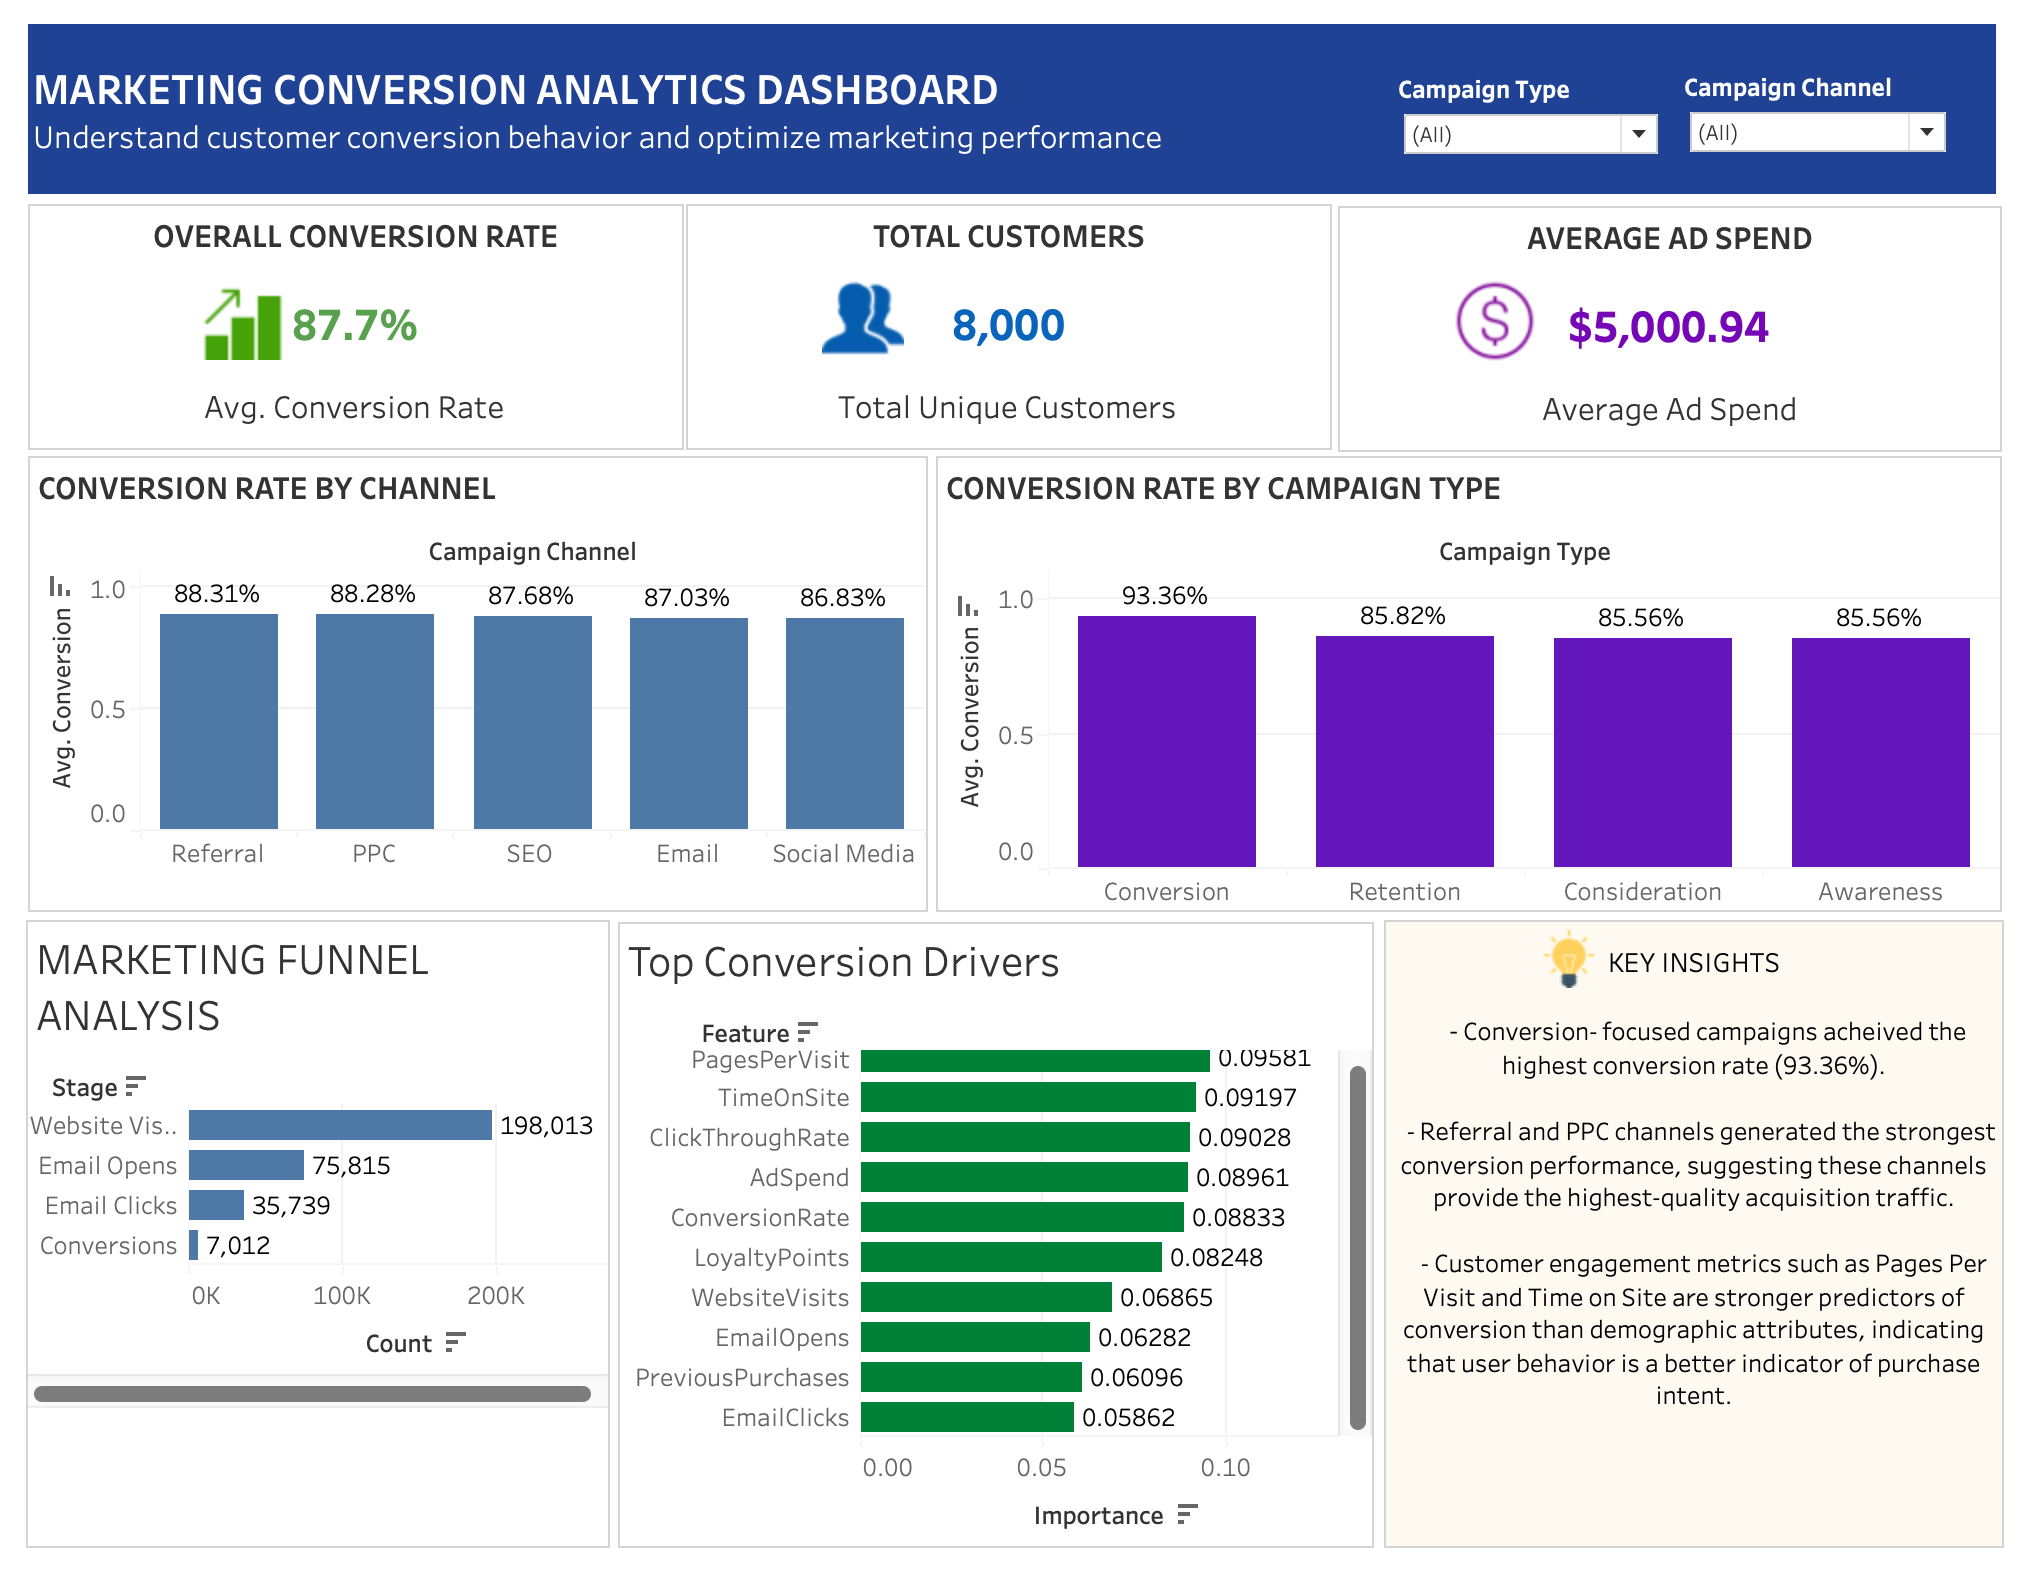

What the dashboard file says about the page in this screenshot:
{"tool":"tableau","page":{"name":"Dashboard 1","canvas":[1000,800],"ordinal":0},"visuals":[{"type":"title","box":[8,8,984,82]},{"type":"filter","title":"Conversion by Channel","param":"[federated.19n8nmc0ehvsmj1dchtow1uu8ffc].[none:CampaignType:nk]","box":[810.8,32,133.3,44]},{"type":"filter","title":"Conversion by Channel","param":"[federated.19n8nmc0ehvsmj1dchtow1uu8ffc].[none:CampaignChannel:nk]","box":[649.2,34,133.3,44]},{"type":"worksheet","title":"OVERALL CONVERSION RATE","mark":"Automatic","box":[16,98,315,123]},{"type":"worksheet","title":"TOTAL CUSTOMERS","mark":"Automatic","box":[332,98,323,123]},{"type":"worksheet","title":"AVERAGE AD SPEND","mark":"Automatic","box":[658,99,332,123]},{"type":"image","param":"/Users/prerana/Downloads/icons8-customers-50-3.png","box":[400,134,45,41]},{"type":"image","param":"/Users/prerana/Downloads/icons8-growth-50.png","box":[90,135,45,41]},{"type":"image","param":"/Users/prerana/Downloads/icons8-dollar-sign-50.png","box":[716,136,45,41]},{"type":"worksheet","title":"Conversion by Channel","mark":"Automatic","rows":["Conversion"],"cols":["CampaignChannel"],"box":[14,224,439,228]},{"type":"worksheet","title":"Conversion by Campaign type","mark":"Automatic","rows":["Conversion"],"cols":["CampaignType"],"box":[457,224,533,228]},{"type":"worksheet","title":"MARKETING FUNNEL ANALYSIS","mark":"Bar","rows":["Stage"],"cols":["Count"],"box":[2,456,292,314]},{"type":"text","box":[681,456,310,314]},{"type":"worksheet","title":"Top Conversion Drivers","mark":"Automatic","rows":["Feature"],"cols":["Importance"],"box":[298,457,378,313]},{"type":"image","param":"/Users/prerana/Downloads/idea.png","box":[759,461,29,43]}]}

Visuals, with their boxes on the page's 1000x800 design canvas (x1, y1, x2, y2). These are canvas units, not pixel positions in the 2036x1570 screenshot, which may show the page scaled, cropped or inside an application window:
title: 8/8/992/90
"Conversion by Channel" filter: 811/32/944/76
"Conversion by Channel" filter: 649/34/782/78
"OVERALL CONVERSION RATE" worksheet: 16/98/331/221
"TOTAL CUSTOMERS" worksheet: 332/98/655/221
"AVERAGE AD SPEND" worksheet: 658/99/990/222
image: 400/134/445/175
image: 90/135/135/176
image: 716/136/761/177
"Conversion by Channel" worksheet: 14/224/453/452
"Conversion by Campaign type" worksheet: 457/224/990/452
"MARKETING FUNNEL ANALYSIS" worksheet (Bar marks): 2/456/294/770
text: 681/456/991/770
"Top Conversion Drivers" worksheet: 298/457/676/770
image: 759/461/788/504
